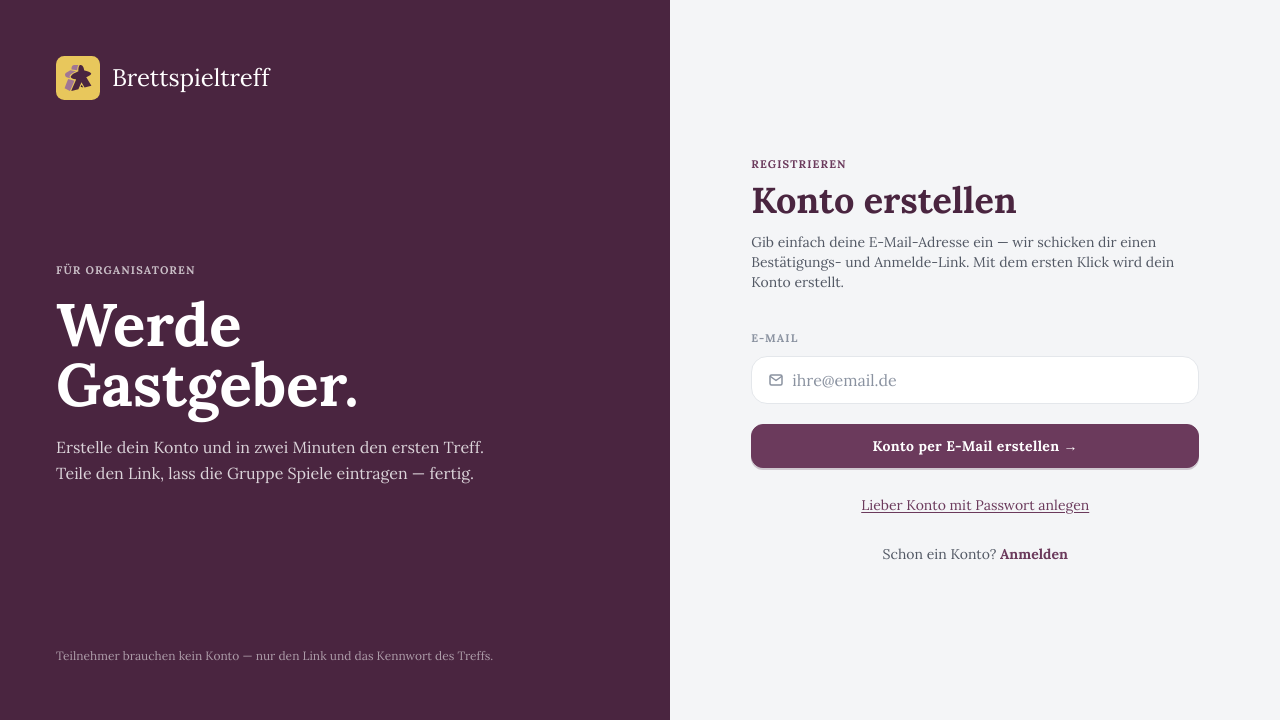
RegisterPage › reveals password registration when disclosure is clicked
Click the button "Lieber Konto mit Passwort anlegen" at (975, 505), box [861, 495, 1089, 515]
(page scrolled)
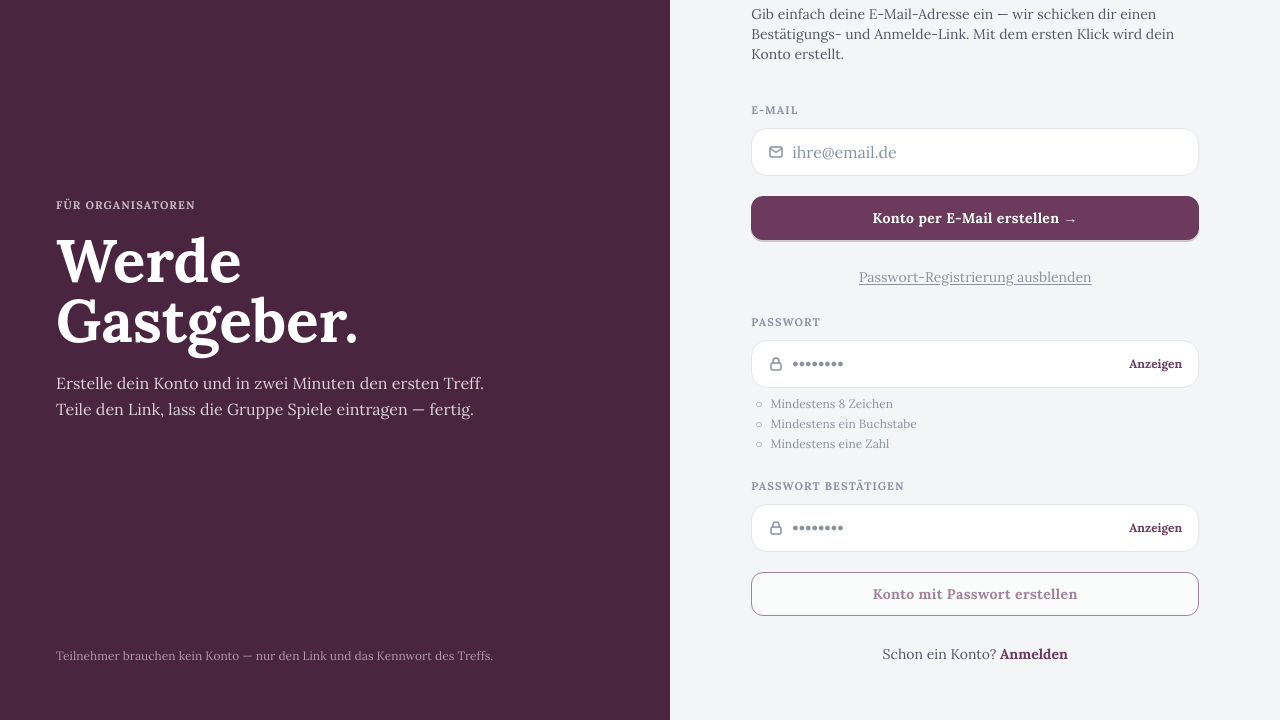
expect the password field labelled "Passwort" is shown: met, box [792, 352, 1121, 376]
expect the password field labelled "Passwort bestätigen" is shown: met, box [792, 516, 1121, 540]
expect the button "Konto mit Passwort erstellen" is shown: met, box [751, 572, 1199, 616]
